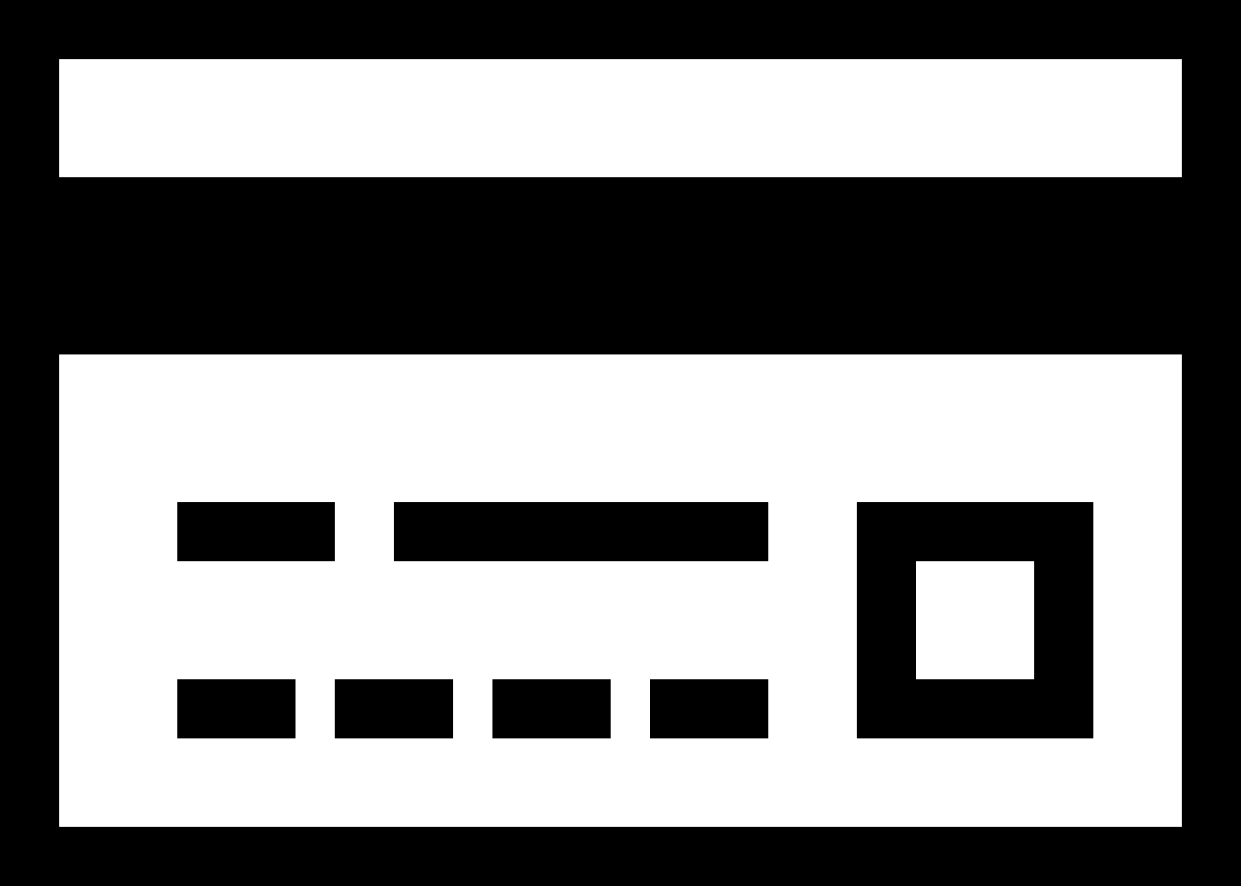

The page's visual inventory and layout, read from the dashboard file:
{"tool":"tableau","page":{"name":"Task 9 - Dashboard 1","canvas":[1000,1000],"units":"permille","ordinal":0},"visuals":[{"type":"worksheet","box":[0,0,1000,1000]},{"type":"worksheet","param":"horz","box":[6.5,10.5,987,979]},{"type":"worksheet","box":[14.7,22.3,980.5,60.3]},{"type":"worksheet","box":[677.8,31.4,135.1,39.3]},{"type":"worksheet","title":"Task 7 - highlight tabel(DB)","mark":"Square","rows":["Income Level","Credit Rating","# Bank Accounts Open","# Credit Cards Held","# Homes Owned"],"cols":["Offer Accepted","Household Size","Reward","Mailer Type","Own Your Home","Overdraft Protection"],"box":[14.7,86.5,816.1,900.4]},{"type":"worksheet","title":"Task 7 - highlight tabel(DB)","mark":"Square","rows":["Income Level","Credit Rating","# Bank Accounts Open","# Credit Cards Held","# Homes Owned"],"cols":["Offer Accepted","Household Size","Reward","Mailer Type","Own Your Home","Overdraft Protection"],"param":"[federated.09p3p5r11pkwdx1b5s76k0kxbmq4].[none:Household Size:ok]","box":[839.7,91.7,147.3,66.8]},{"type":"worksheet","title":"Task 7 - highlight tabel(DB)","mark":"Square","rows":["Income Level","Credit Rating","# Bank Accounts Open","# Credit Cards Held","# Homes Owned"],"cols":["Offer Accepted","Household Size","Reward","Mailer Type","Own Your Home","Overdraft Protection"],"param":"[federated.09p3p5r11pkwdx1b5s76k0kxbmq4].[none:Mailer Type:nk]","box":[839.7,158.6,147.3,116.6]},{"type":"worksheet","box":[835.6,578,158.7,407.6]}]}

Visuals, with their boxes on the dashboard's canvas, which has no fixed pixel size, in thousandths of its width and height (x1, y1, x2, y2). These are canvas units, not pixel positions in the 1241x886 screenshot, which may show the page scaled, cropped or inside an application window:
worksheet: {"left": 0, "top": 0, "right": 1000, "bottom": 1000}
worksheet: {"left": 6, "top": 10, "right": 994, "bottom": 990}
worksheet: {"left": 15, "top": 22, "right": 995, "bottom": 83}
worksheet: {"left": 678, "top": 31, "right": 813, "bottom": 71}
"Task 7 - highlight tabel(DB)" worksheet (Square marks): {"left": 15, "top": 86, "right": 831, "bottom": 987}
"Task 7 - highlight tabel(DB)" worksheet (Square marks): {"left": 840, "top": 92, "right": 987, "bottom": 158}
"Task 7 - highlight tabel(DB)" worksheet (Square marks): {"left": 840, "top": 159, "right": 987, "bottom": 275}
worksheet: {"left": 836, "top": 578, "right": 994, "bottom": 986}
